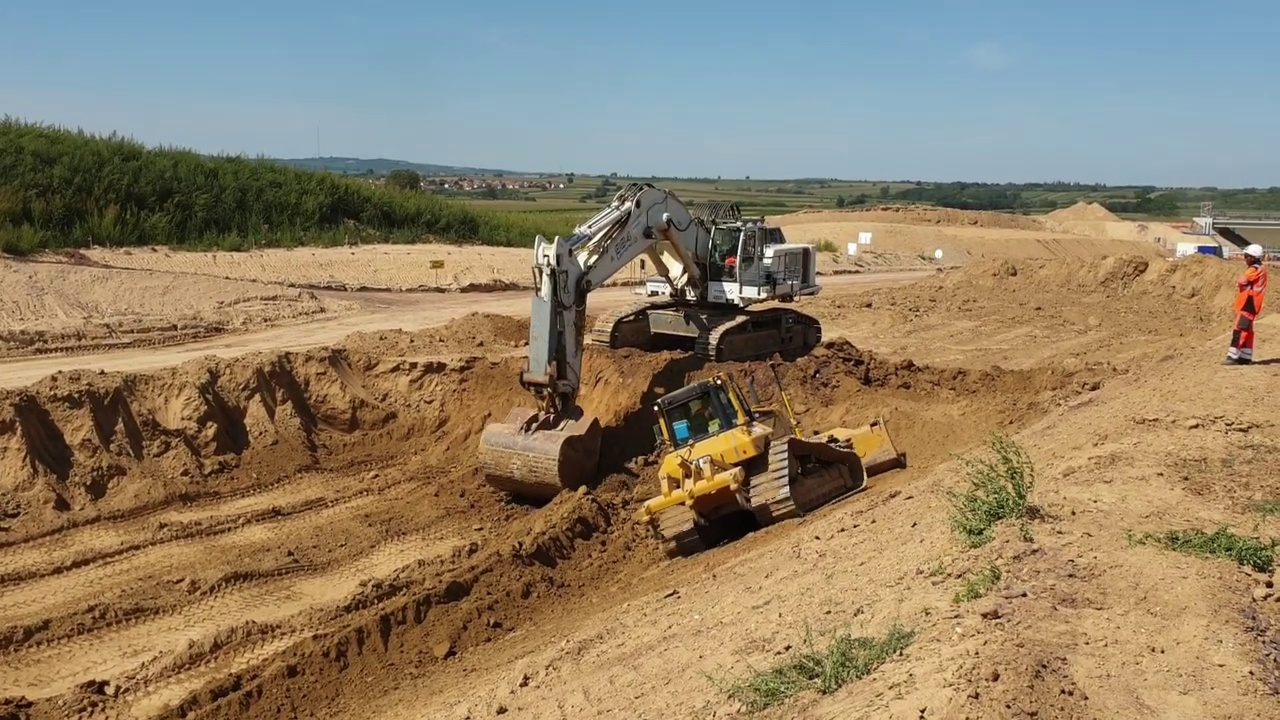bulldozer: (633, 357, 909, 555)
excavator: (474, 178, 826, 505)
worker: (1222, 236, 1274, 375)
